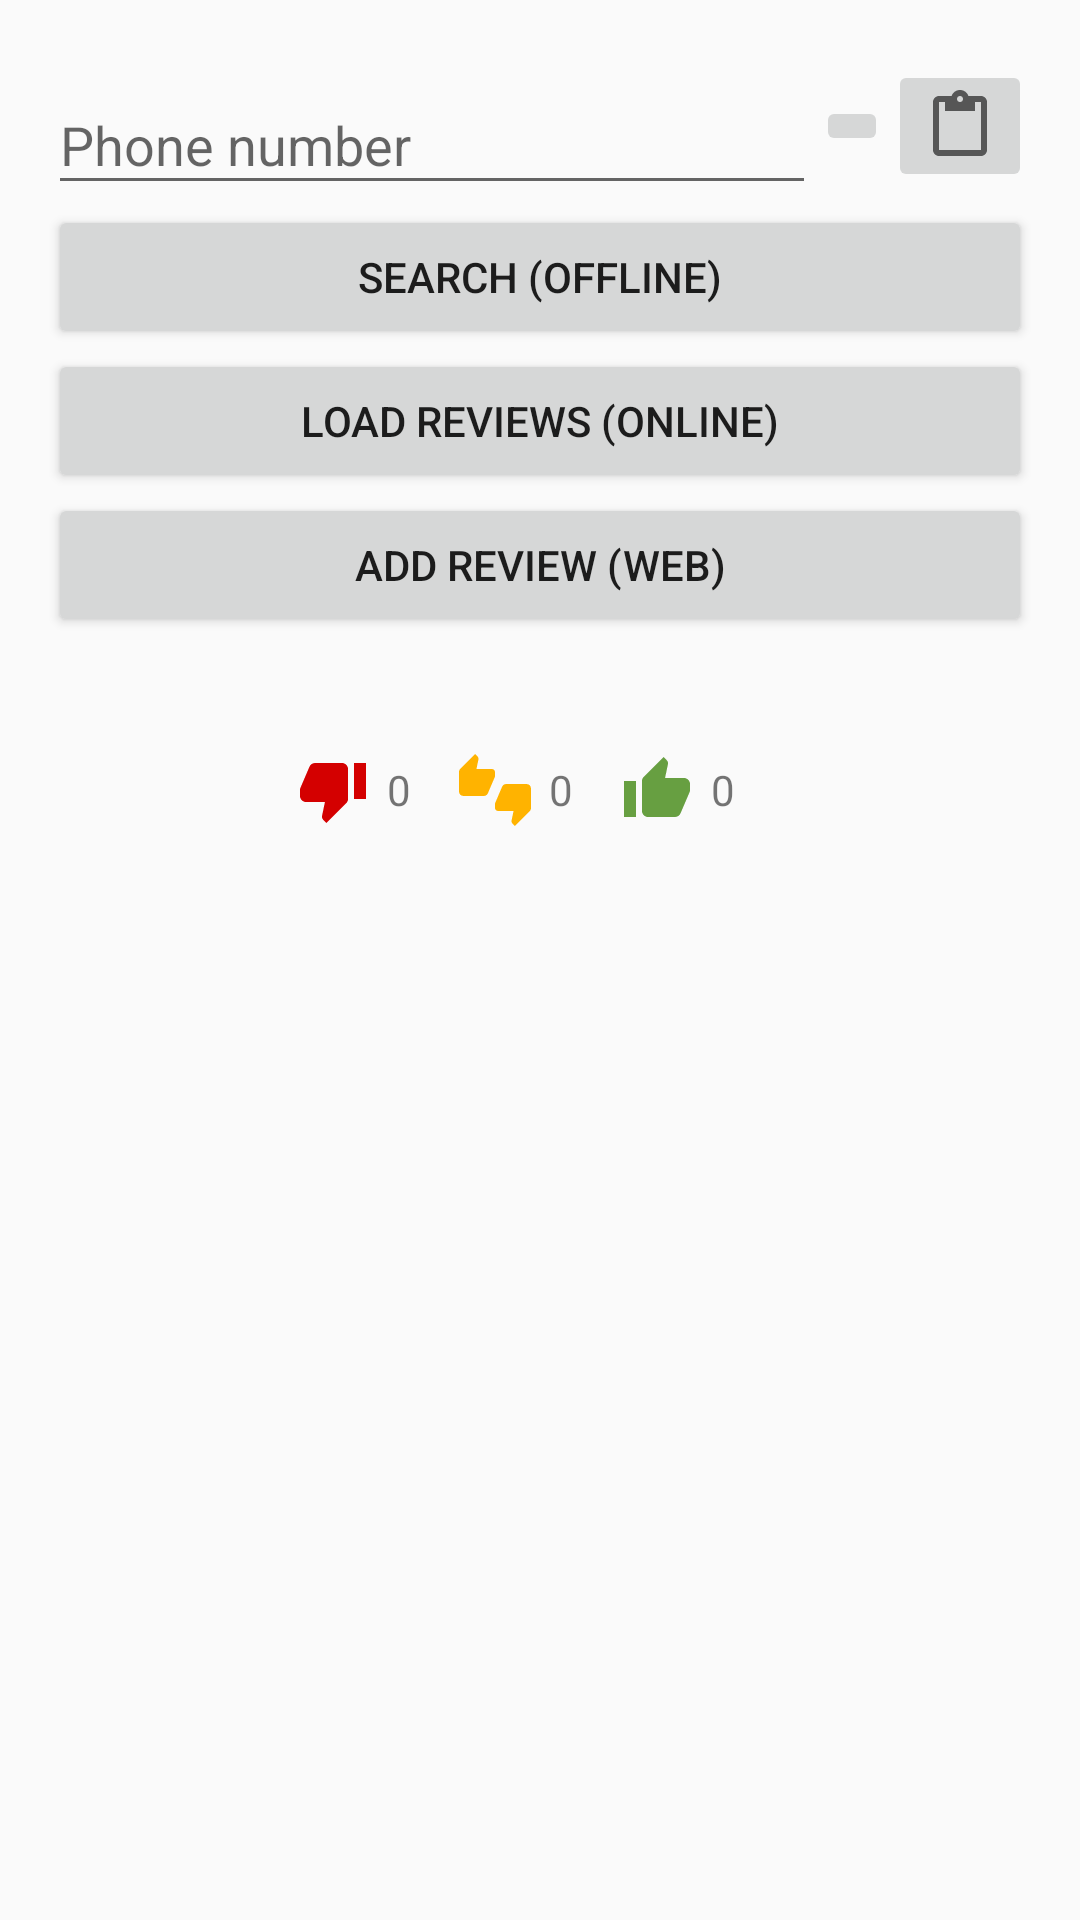

Screen size 1080×1920. Icon name, then its box in pixels as (x1, y1, x2, y2):
Paste number: (900, 78, 1020, 174)
thumb down: (300, 763, 366, 823)
thumb up: (624, 757, 690, 817)
thumbs up down: (459, 754, 531, 826)
